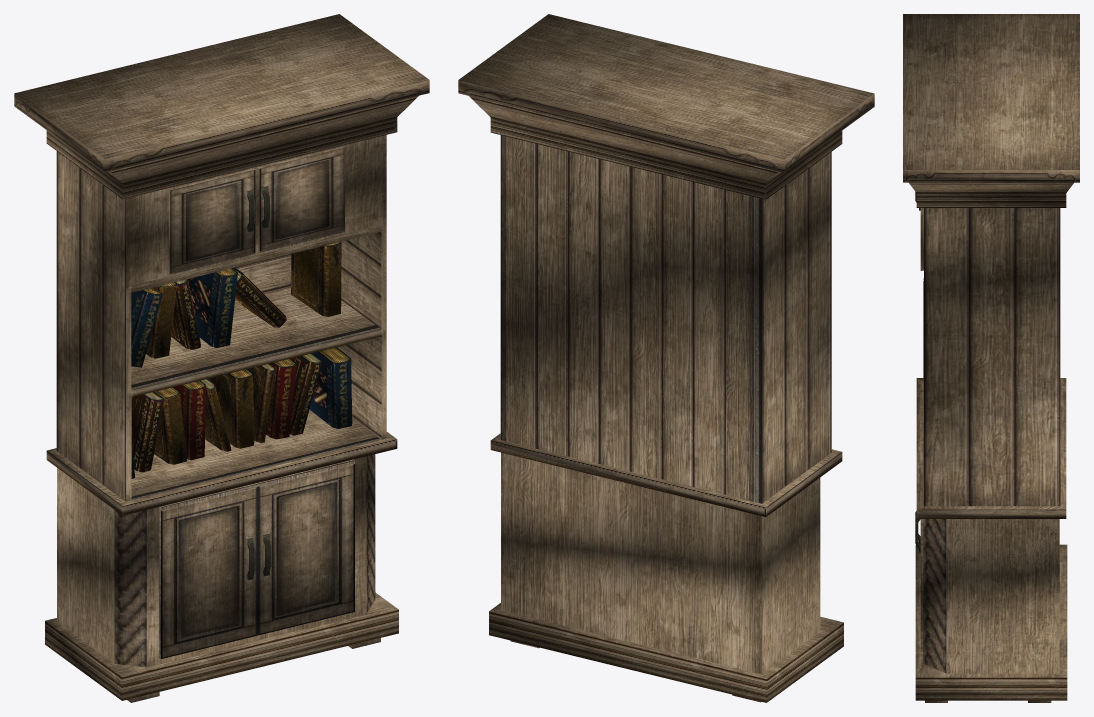
Rendered from GS_VOB_BOOKCASE_YELLOW_01_2_KOZA.glb.
The picture shows the model from 3 angles, left to right: view 1: azimuth 30°, elevation 25°; view 2: azimuth 150°, elevation 25°; view 3: azimuth 270°, elevation 25°; orthographic projection. The views are drawn at different scales.
Visible parts, largest first — view 1: Mesh; view 2: Mesh; view 3: Mesh.
Part boxes in pixels (bbox=[...]): Mesh: bbox=[14, 14, 429, 702]; Mesh: bbox=[458, 14, 874, 702]; Mesh: bbox=[903, 14, 1079, 702].
Size of the model in its own units: 1.41 by 2.33 by 0.6778.
5 materials, 5 textured.
